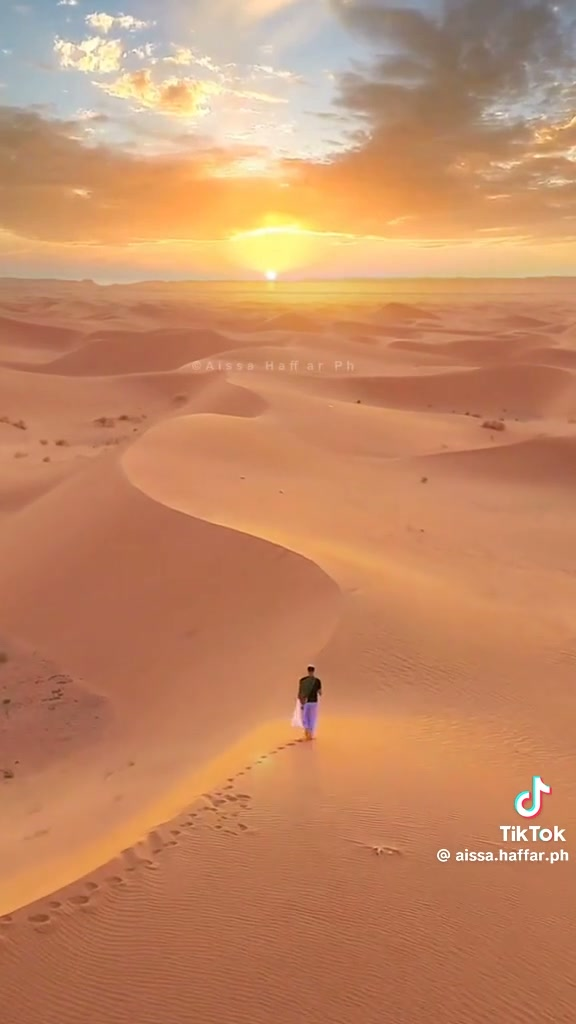human: (298, 666, 321, 739)
human_foot_print: (27, 739, 299, 929), (28, 810, 200, 927), (199, 739, 300, 834), (26, 875, 125, 929), (177, 773, 251, 835), (26, 880, 99, 929), (344, 837, 401, 855), (0, 914, 14, 945), (147, 830, 163, 855), (28, 911, 51, 924), (68, 893, 89, 906), (106, 875, 125, 888), (0, 914, 13, 930), (47, 899, 62, 910), (85, 880, 98, 892), (170, 828, 181, 838)
